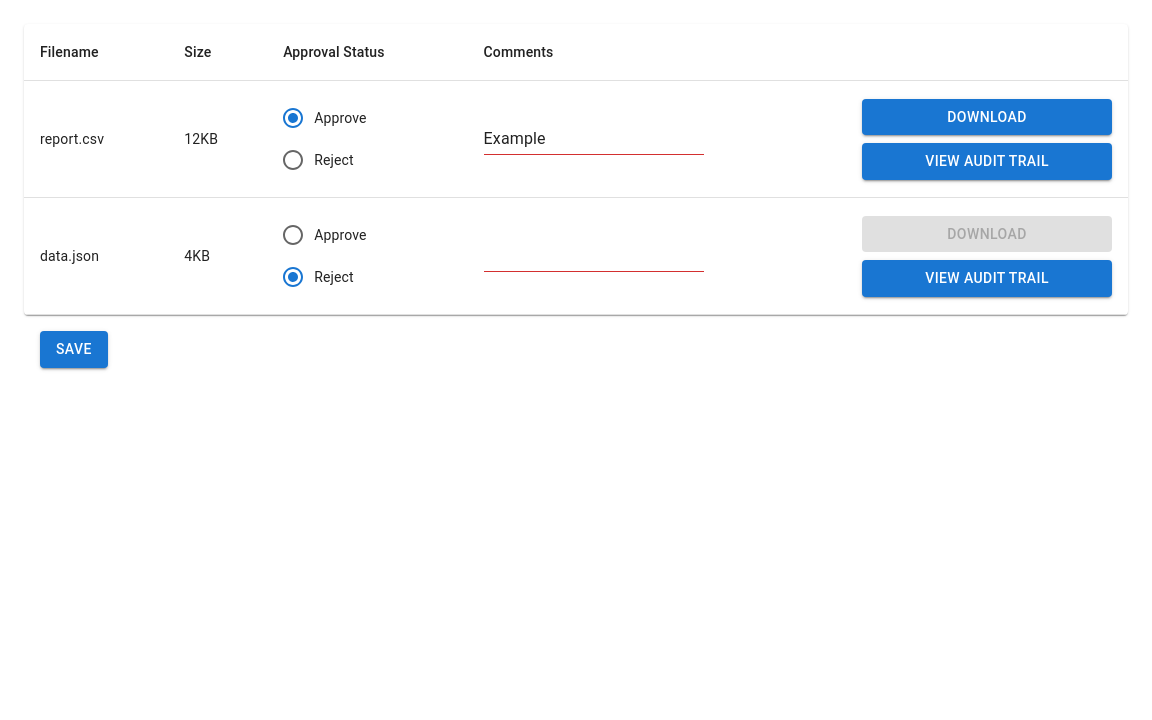
EgressPage › shows an error if the audit trail connection fails
Expected: the column heading "report.csv" is shown, [24,80,168,198]
Click the button "View Audit Trail" in the row of "report.csv".
click(987, 161)  # box [862,143,1112,180]
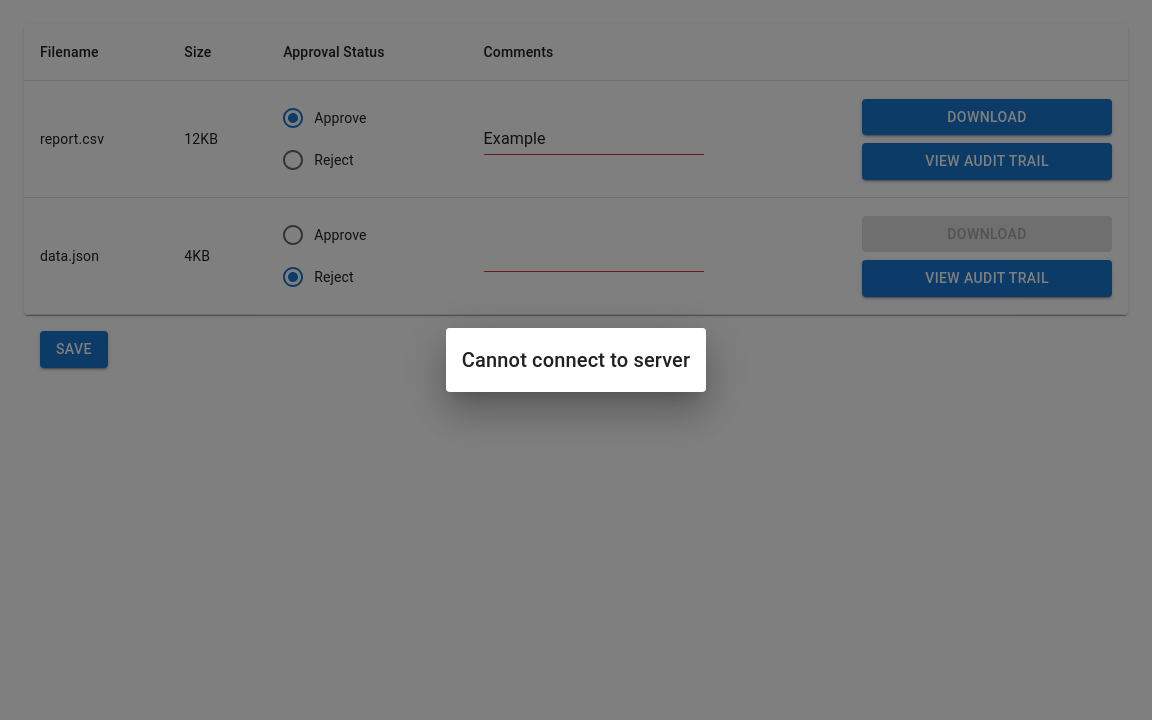
Result: the heading "Cannot connect to server" is shown at [462,344,690,376]
